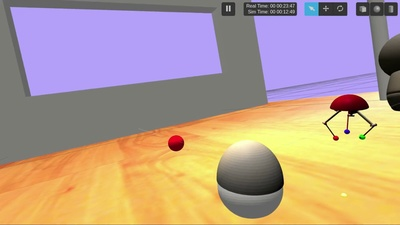mira_robot: (217, 141, 285, 219)
